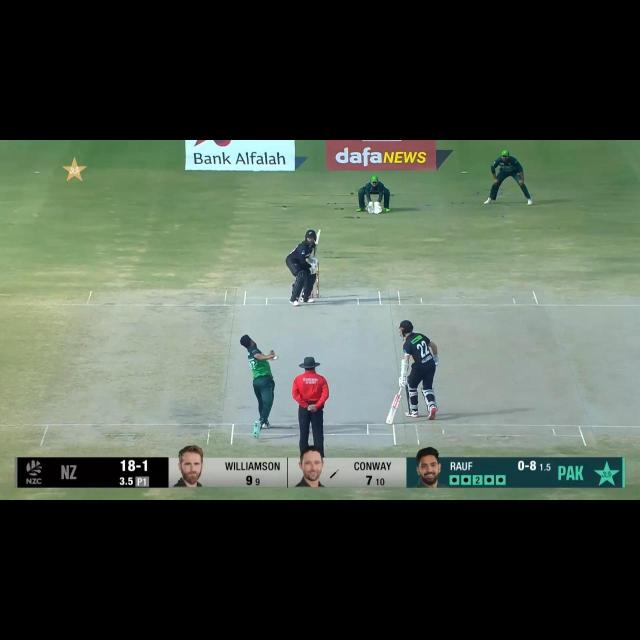bat: (386, 394, 401, 425), (313, 229, 321, 259)
toe: (386, 420, 394, 426), (318, 228, 321, 234)
